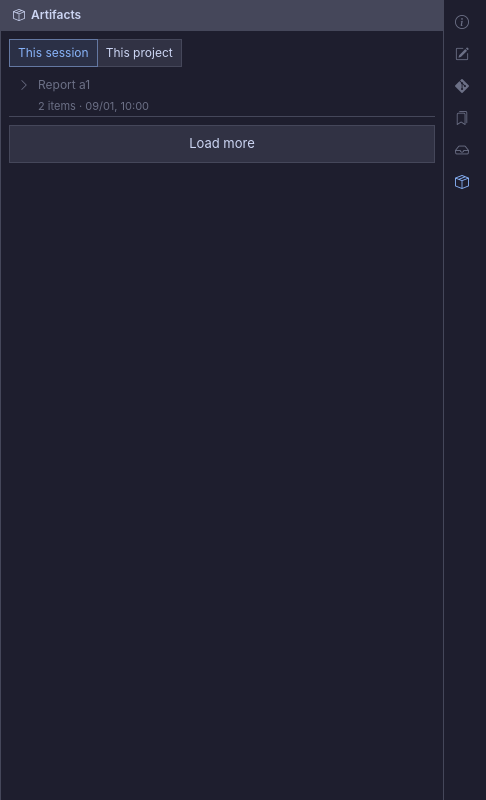
Test case: includes pagination already pending at hide time in the resume snapshot
The width and height of the screenshot is (486, 800).
Click the button "Load more".
click(222, 144)  # box [9, 124, 435, 162]
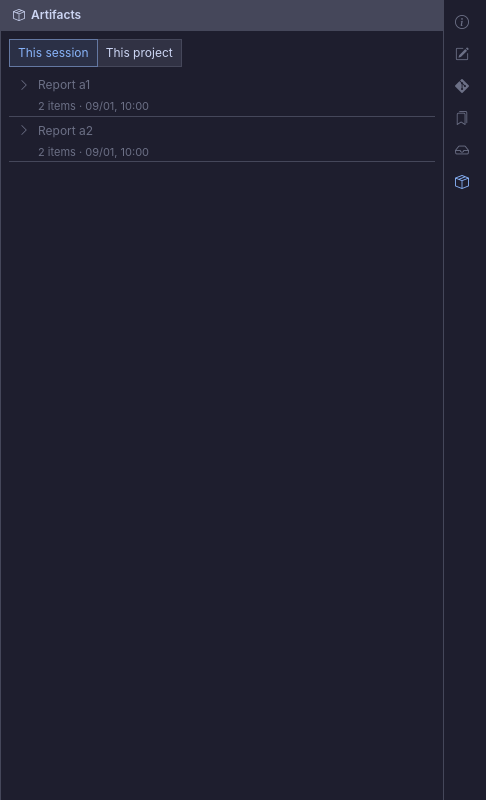
Result: the text "Report a2" is shown at [38, 122, 93, 138]
Result: the button "Load more" is gone
